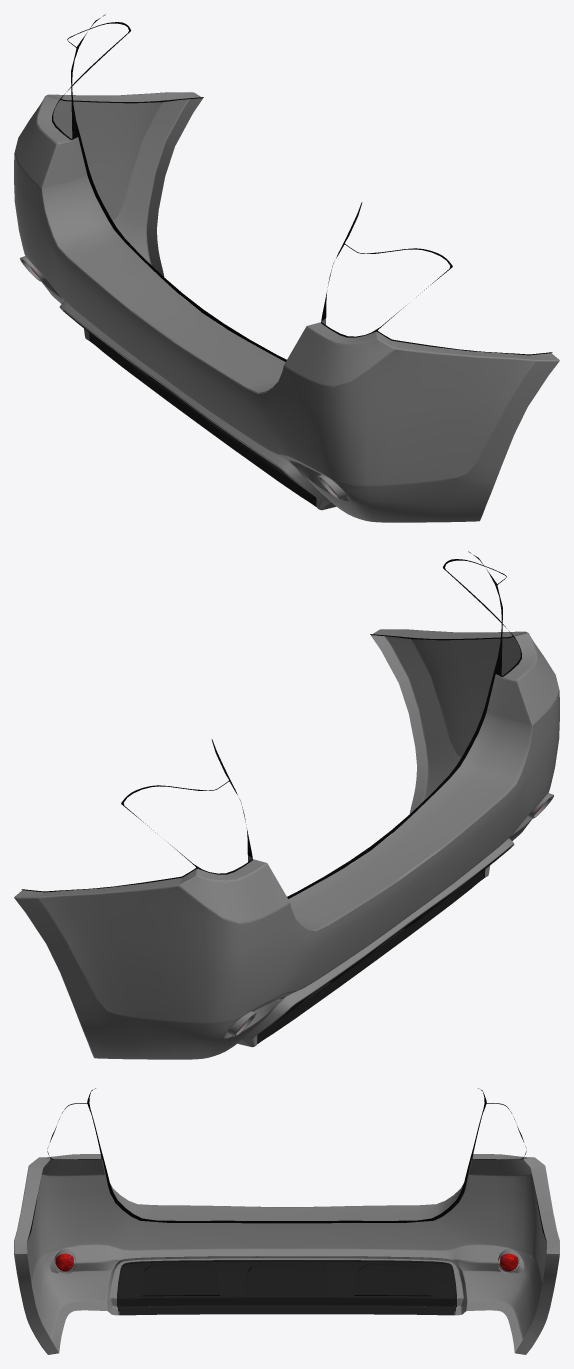
The picture shows the model from 3 angles, top to bottom: view 1: azimuth 30°, elevation 25°; view 2: azimuth 150°, elevation 25°; view 3: azimuth 270°, elevation 25°; orthographic projection. The views are drawn at different scales.
Parts seen in each view (by area): view 1: Y653_561G_C_Y653_561G_C_2_DaS, Y653_561G_C_Y653_561G_C_2_DaS_E, Y653_561G_C_Y653_561G_C_6_D, Y653_561G_C_1_D_Y653_561G_C; view 2: Y653_561G_C_Y653_561G_C_2_DaS, Y653_561G_C_Y653_561G_C_2_DaS_E, Y653_561G_C_Y653_561G_C_6_D, Y653_561G_C_1_D_Y653_561G_C; view 3: Y653_561G_C_Y653_561G_C_2_DaS, Y653_561G_C_1_D_Y653_561G_C, Y653_561G_C_Y653_561G_C_2_DaS_E, Y653_561G_C_Y653_561G_C_6_D.
Boxes of the visible parts, left/top/right/bottom form: Y653_561G_C_Y653_561G_C_2_DaS: left=14, top=92, right=558, bottom=522; Y653_561G_C_Y653_561G_C_2_DaS_E: left=14, top=92, right=559, bottom=522; Y653_561G_C_Y653_561G_C_6_D: left=52, top=14, right=552, bottom=361; Y653_561G_C_1_D_Y653_561G_C: left=63, top=310, right=316, bottom=506; Y653_561G_C_Y653_561G_C_2_DaS: left=15, top=629, right=559, bottom=1059; Y653_561G_C_Y653_561G_C_2_DaS_E: left=14, top=629, right=559, bottom=1059; Y653_561G_C_Y653_561G_C_6_D: left=21, top=551, right=521, bottom=898; Y653_561G_C_1_D_Y653_561G_C: left=257, top=847, right=510, bottom=1043; Y653_561G_C_Y653_561G_C_2_DaS: left=14, top=1154, right=559, bottom=1354; Y653_561G_C_1_D_Y653_561G_C: left=117, top=1260, right=456, bottom=1315; Y653_561G_C_Y653_561G_C_2_DaS_E: left=14, top=1154, right=559, bottom=1354; Y653_561G_C_Y653_561G_C_6_D: left=27, top=1088, right=546, bottom=1241.
Size of the model in its own units: 76.42 by 102 by 215.
